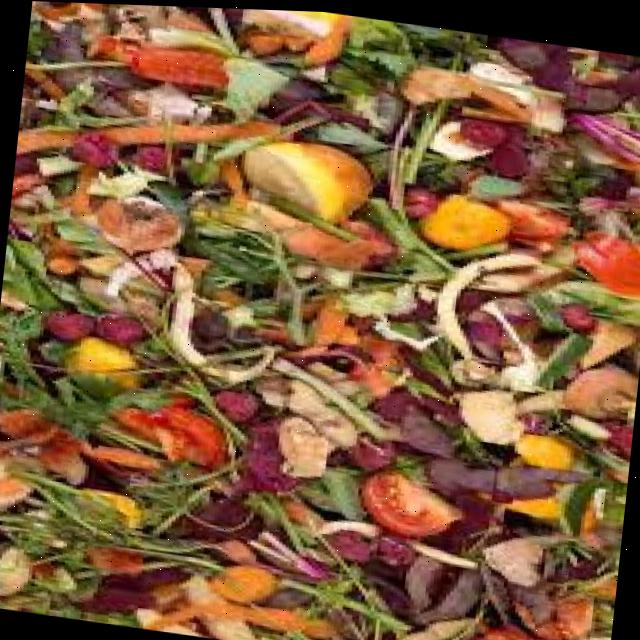Wet: (0, 0, 640, 640), (237, 251, 488, 559), (19, 300, 248, 478), (0, 453, 188, 605), (230, 121, 392, 240), (79, 28, 247, 99), (444, 370, 570, 462), (354, 455, 464, 555), (91, 174, 192, 270), (128, 394, 235, 477), (446, 102, 554, 182), (422, 180, 520, 260), (182, 543, 288, 616), (545, 288, 606, 335)
